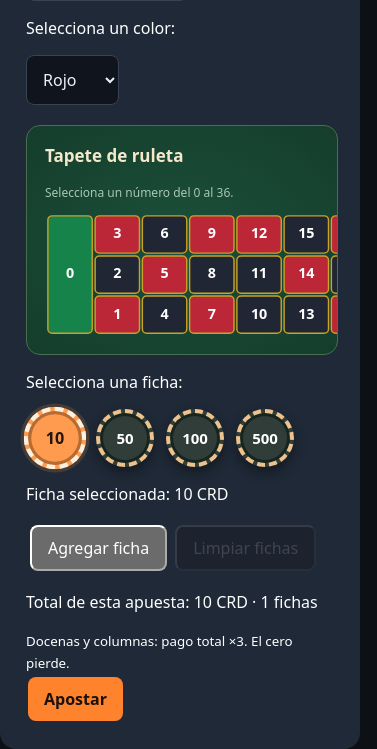
Scenario: HU08 - Control de saldo insuficiente › muestra un error si falla la conexión con Django
The width and height of the screenshot is (377, 749).
(page scrolled)
What coordinates should you click on to do the following:
click the button "Apostar"
I would click on:
 (75, 699)
Its box is left=28, top=677, right=123, bottom=721.
(page scrolled)
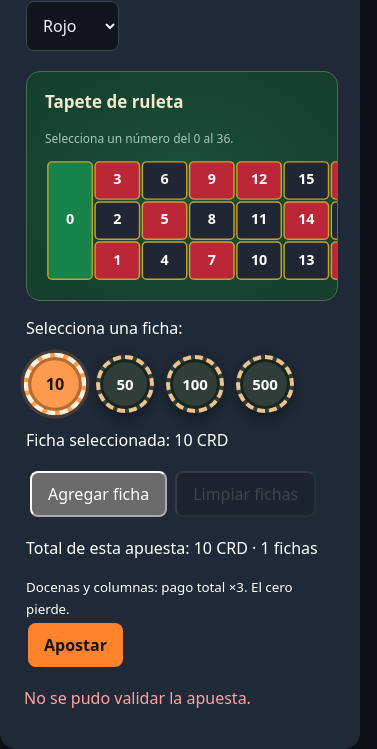
Expected: the message reads "No se pudo validar la apuesta.", left=24, top=687, right=251, bottom=709
